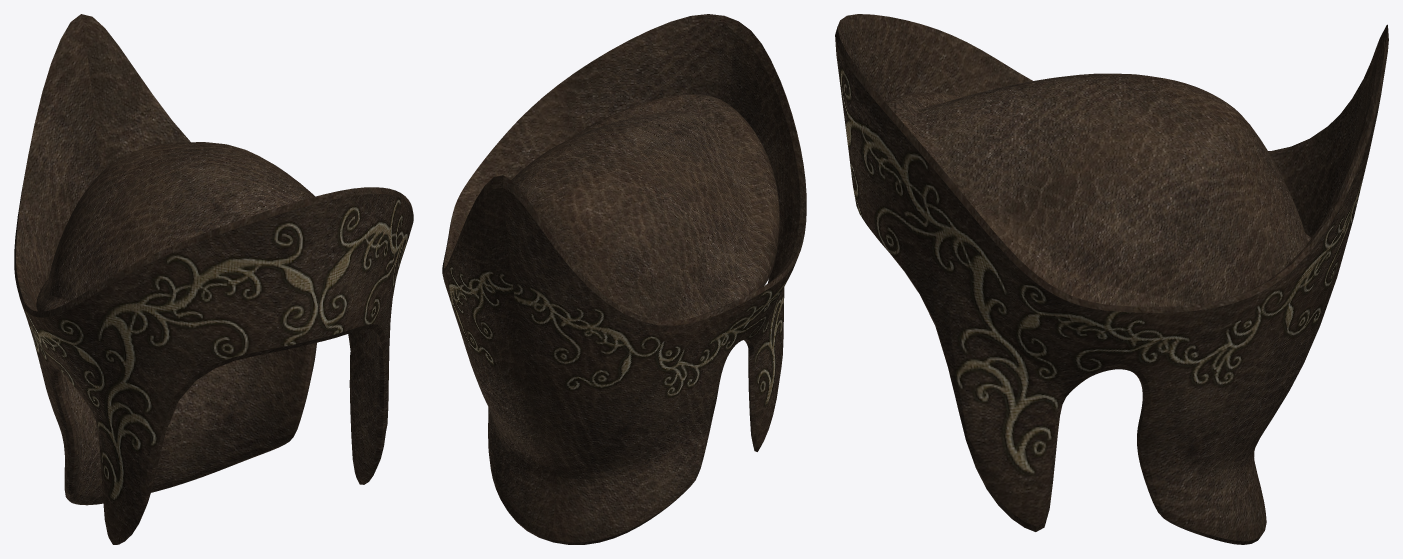
The model's file is priest_hat.fbx.
3 views of the same model, side by side, from view 1: azimuth 30°, elevation 25°; view 2: azimuth 150°, elevation 25°; view 3: azimuth 270°, elevation 25° (orthographic). The views are drawn at different scales.
Parts seen in each view (by area): view 1: priest_hat; view 2: priest_hat; view 3: priest_hat.
Boxes of the visible parts, left/top/right/bottom form: priest_hat: left=14, top=14, right=413, bottom=544; priest_hat: left=442, top=14, right=806, bottom=544; priest_hat: left=835, top=14, right=1388, bottom=544.
Size of the model in its own units: 9.14 by 10.83 by 10.83.
